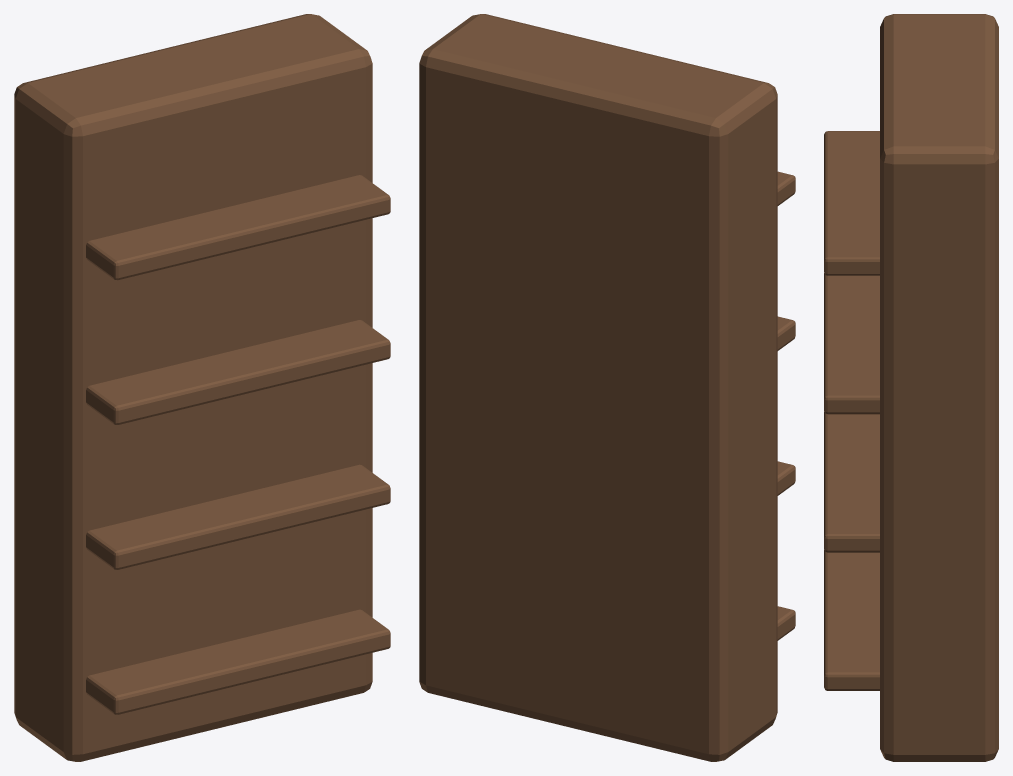
File: Bookshelf_01.fbx
The picture shows the model from 3 angles, left to right: view 1: azimuth 30°, elevation 25°; view 2: azimuth 150°, elevation 25°; view 3: azimuth 270°, elevation 25°; orthographic projection. The views are drawn at different scales.
Visible parts, largest first — view 1: Body.001, Shelf0, Shelf3, Shelf1, Shelf2; view 2: Body.001; view 3: Body.001, Shelf3, Shelf2, Shelf1, Shelf0.
Boxes of the visible parts, x1,y1,x2,y2 form: Body.001: (14,14,372,761); Shelf0: (86,609,390,714); Shelf3: (86,175,390,280); Shelf1: (86,464,390,569); Shelf2: (86,320,390,424); Body.001: (419,14,777,761); Body.001: (880,14,998,761); Shelf3: (824,131,879,275); Shelf2: (824,273,879,414); Shelf1: (824,411,879,552); Shelf0: (824,550,879,690).
Bounding box in the file's own units: 1 × 2 × 0.515.
